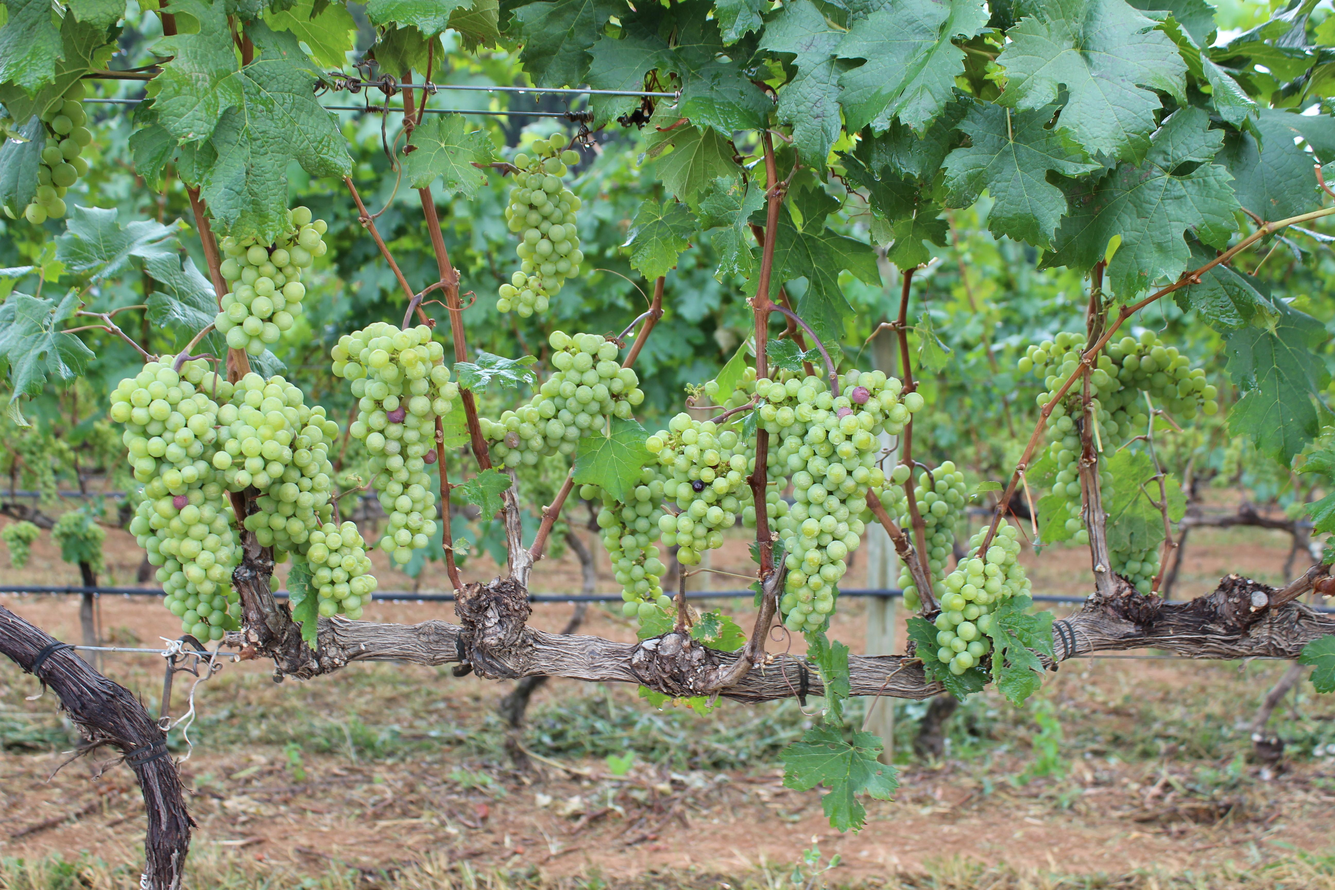leaf: (152, 0, 350, 241), (1042, 107, 1238, 298), (997, 0, 1186, 161), (944, 103, 1101, 247), (836, 0, 989, 133), (1226, 303, 1328, 464), (772, 213, 880, 355), (760, 0, 849, 169), (0, 289, 94, 427), (780, 724, 897, 830), (1215, 109, 1320, 221), (56, 205, 186, 280), (513, 0, 625, 86), (646, 111, 739, 205), (403, 114, 496, 200), (987, 595, 1053, 705), (1174, 264, 1278, 333), (907, 615, 988, 701), (699, 177, 765, 280), (573, 417, 652, 501), (1101, 449, 1165, 552), (264, 0, 356, 69), (623, 197, 696, 280), (0, 0, 63, 92), (0, 116, 45, 216), (805, 630, 851, 725), (366, 0, 470, 37), (453, 352, 537, 390), (451, 468, 512, 518), (286, 559, 319, 648), (690, 609, 746, 651), (714, 0, 763, 44), (1298, 635, 1335, 693), (916, 312, 951, 372), (766, 338, 823, 373), (67, 0, 126, 29), (1164, 474, 1186, 522), (1188, 240, 1216, 268), (367, 0, 384, 13), (182, 164, 185, 175), (1062, 111, 1066, 119), (1076, 499, 1078, 509), (200, 148, 204, 150), (1118, 0, 1120, 2), (660, 106, 661, 107), (201, 326, 201, 326), (210, 320, 211, 320)
